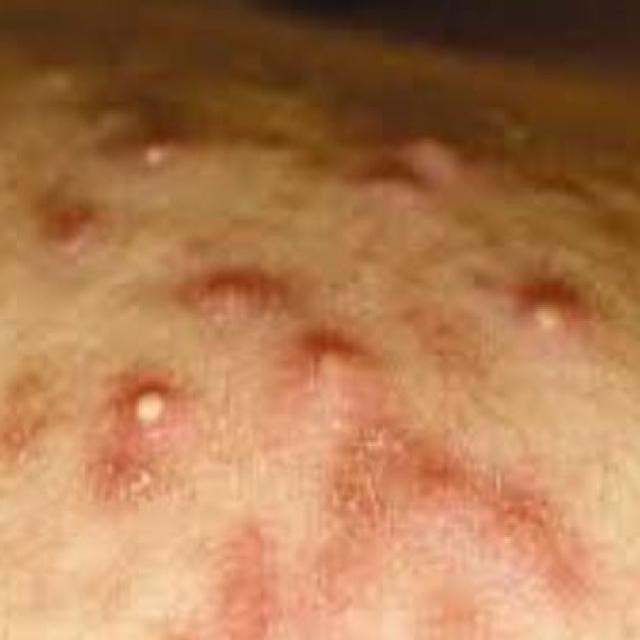pustule: (103, 344, 208, 505), (499, 235, 604, 383)
